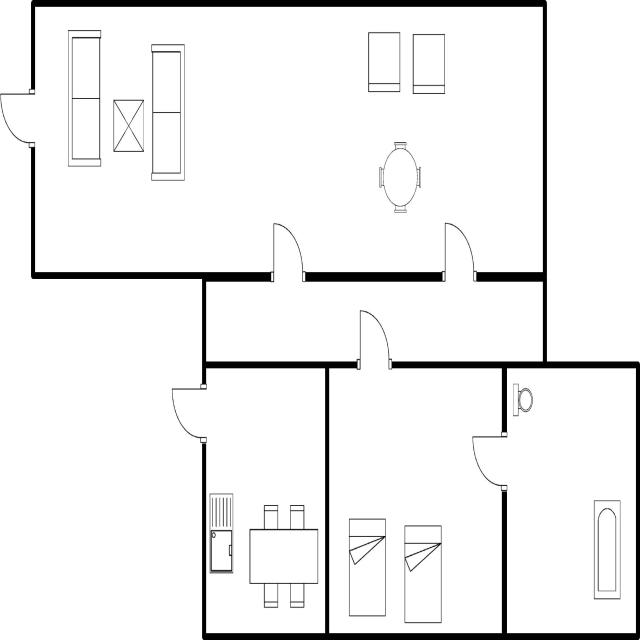bed: (344, 512, 390, 622), (401, 518, 447, 627)
coffee_table: (111, 93, 145, 157)
dining_table: (246, 499, 320, 614)
large_sink: (510, 378, 535, 421)
large_sofa: (63, 22, 104, 172), (147, 38, 188, 184)
round_table: (374, 134, 424, 220)
sink: (207, 488, 237, 578)
small_sofa: (365, 24, 403, 99), (408, 29, 448, 100)
tub: (590, 494, 622, 604)
